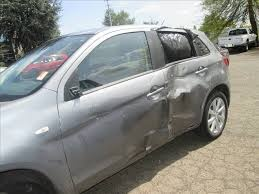Dent: (143, 60, 211, 152)
